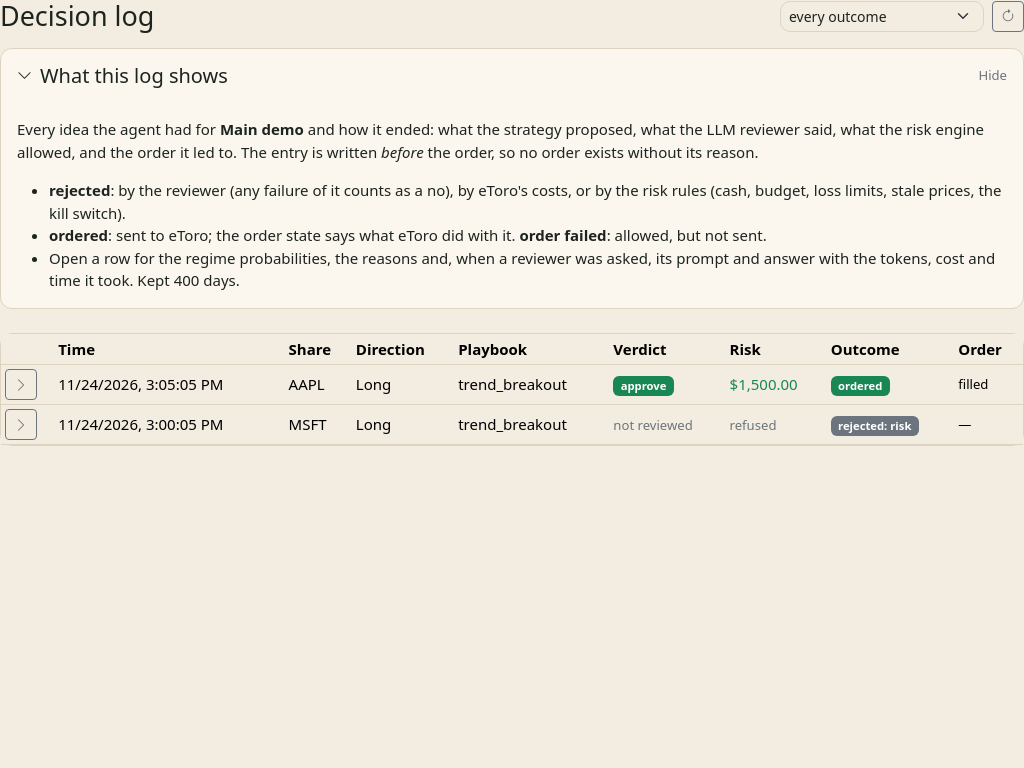
Test case: DecisionLog › opens a row: signal, regime, reasons, and the folded prompt and response with tokens, cost and latency
Check: the text "AAPL" is shown, box [285,365,352,405]
Click the button named "Show the details of AAPL": click(21, 385) [5,369,37,400]
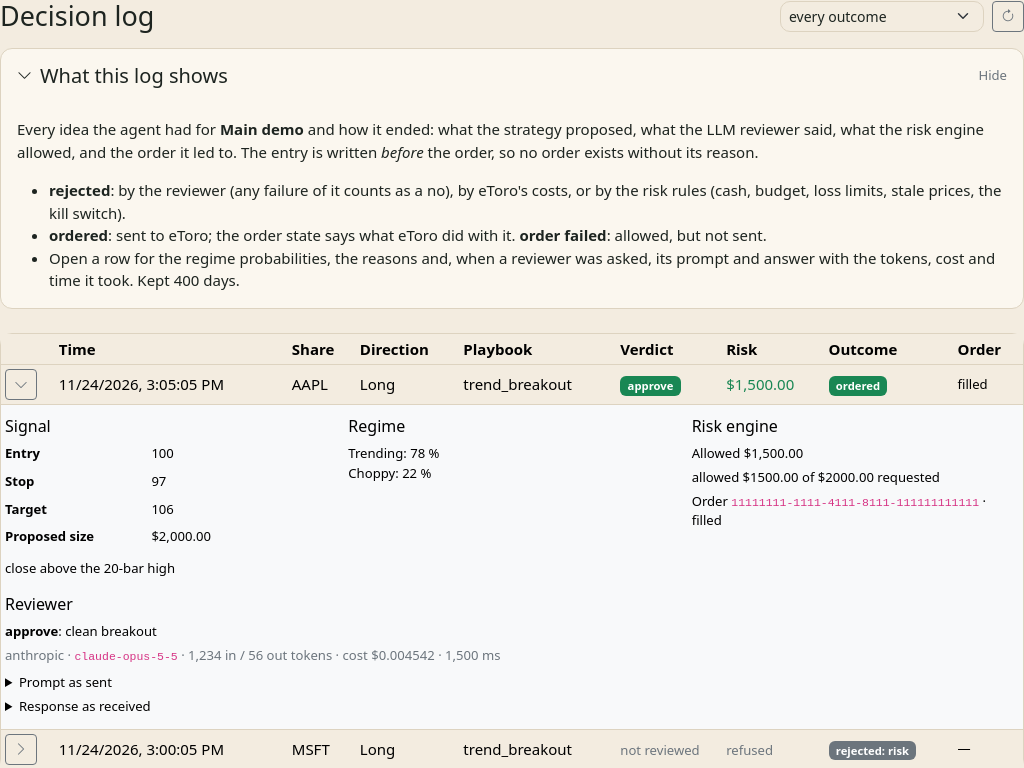
Check: the heading "Prompt as sent" is shown, box [19,673,112,691]
Check: the text "close above the 20-bar high" is shown, box [5,559,175,577]
Check: the list item "trending: 78 %" is shown, box [348,444,439,462]
Click the button named "Hide the details of AAPL": click(21, 385) [5,369,37,400]
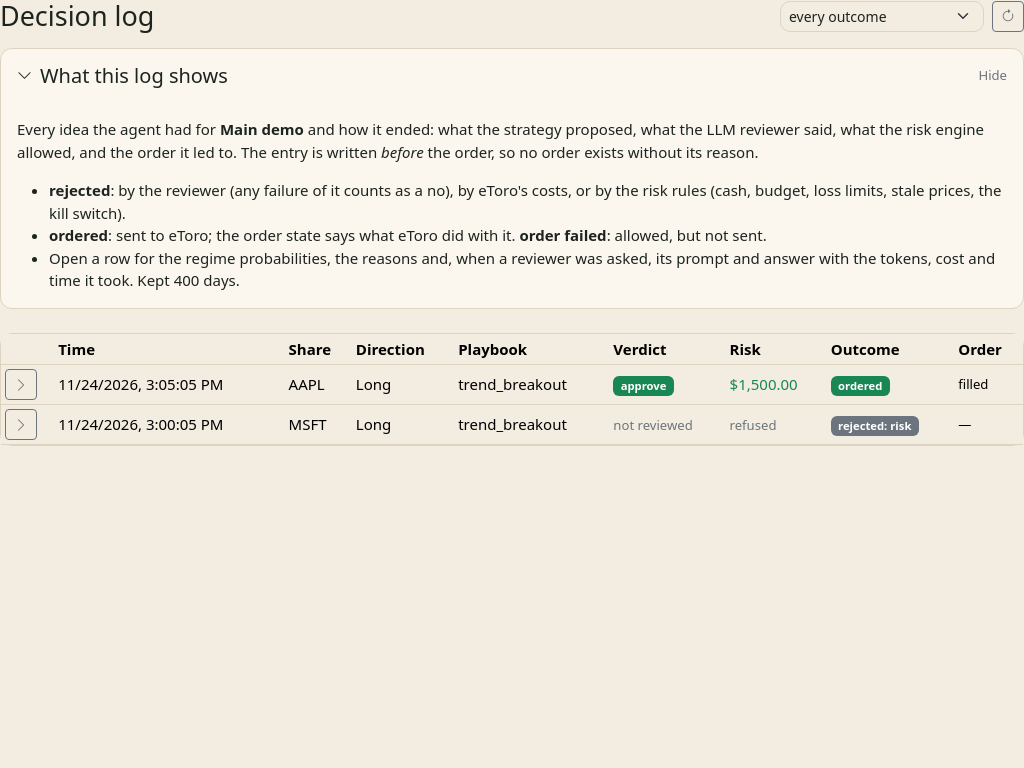
Check: the heading "Prompt as sent" is gone
